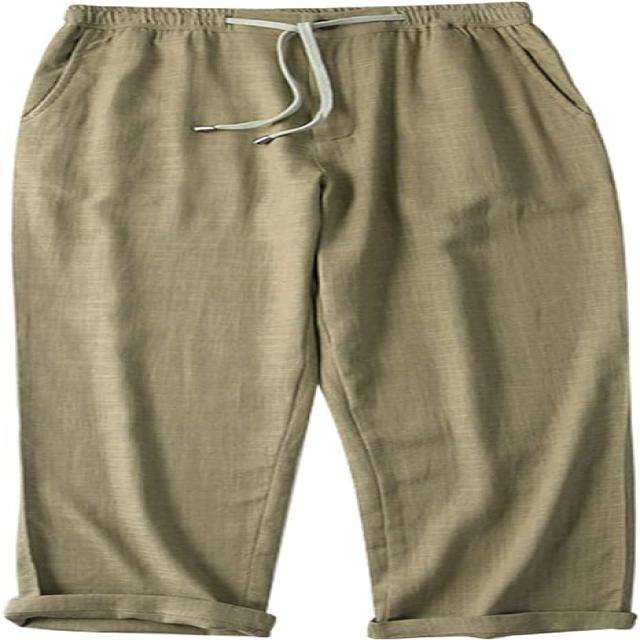long-pants: (9, 1, 634, 640)
